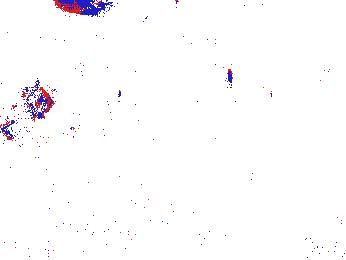X-ray fish: (18, 83, 54, 119)
red belly glassfish: (294, 63, 335, 82)
